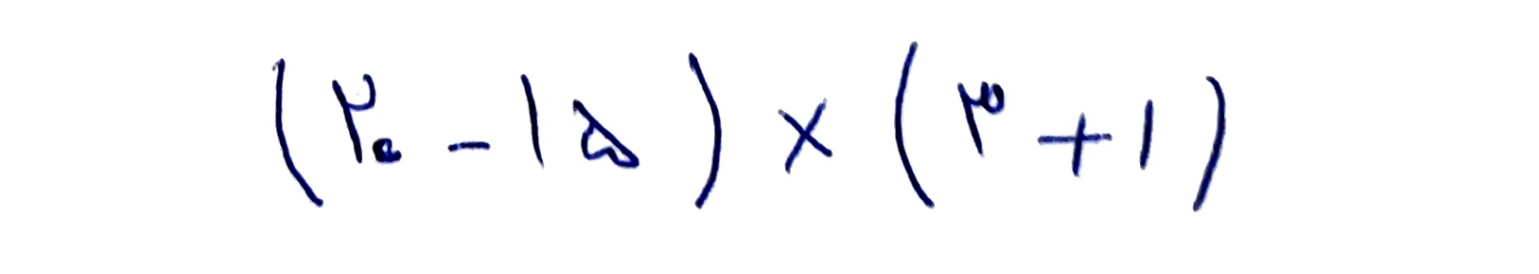character: (271, 58, 326, 209), (893, 41, 936, 209), (687, 49, 723, 210), (1036, 112, 1110, 179), (1190, 76, 1227, 210), (571, 99, 641, 168), (330, 74, 378, 164), (778, 97, 832, 173), (957, 79, 1008, 159), (520, 71, 548, 168), (1138, 99, 1156, 168), (372, 136, 403, 163), (449, 140, 493, 153)
